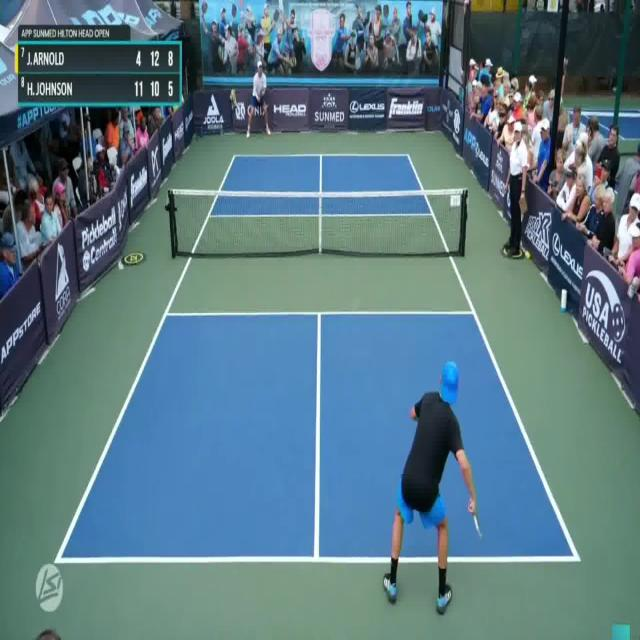Court: (51, 153, 577, 561)
